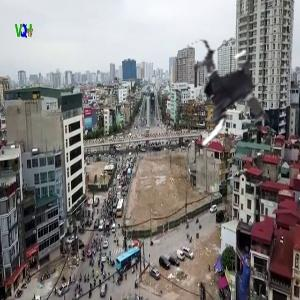drone: (152, 33, 287, 168)
